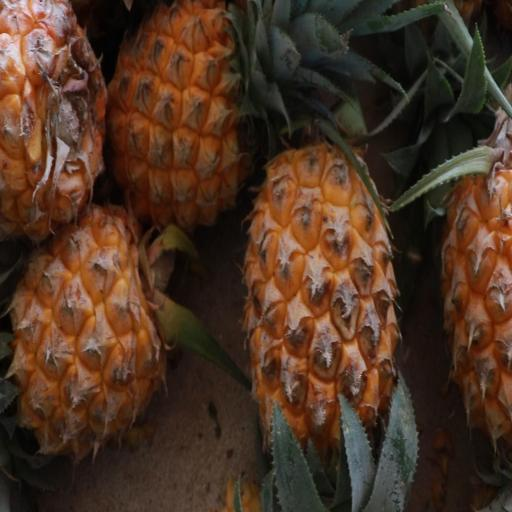Pineapple - v8 v1: (234, 129, 414, 512), (0, 197, 188, 470), (100, 0, 281, 241), (0, 0, 113, 246)
